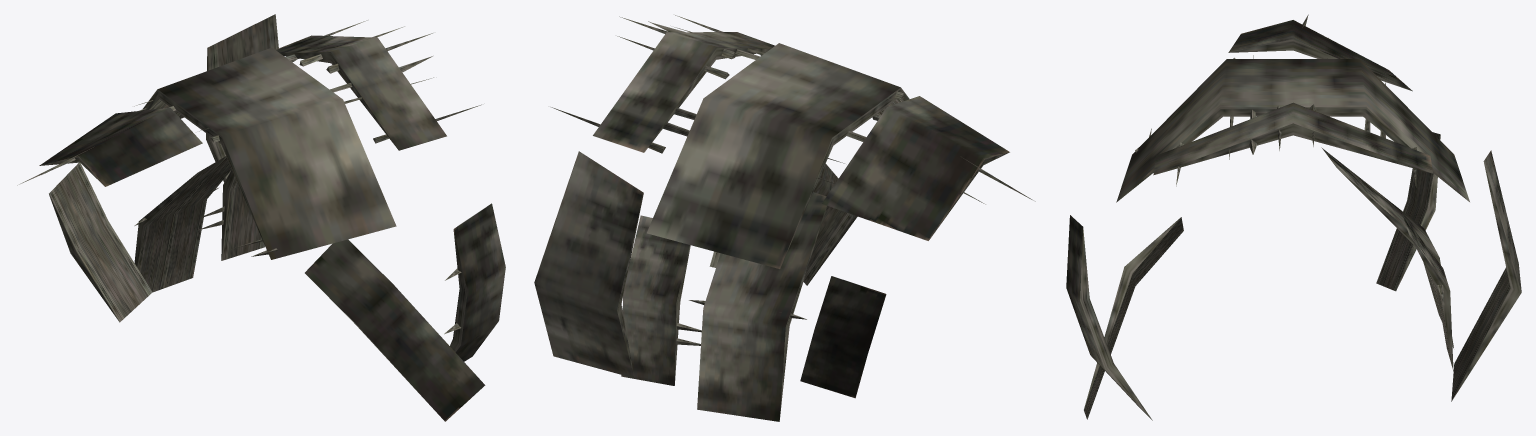
The model's file is thm_tato_lucky_despot_debris_nose_cone_l2.fbx.
3 renders of one model, left to right at view 1: azimuth 30°, elevation 25°; view 2: azimuth 150°, elevation 25°; view 3: azimuth 270°, elevation 25°, orthographic. The views are drawn at different scales.
Visible parts, largest first — view 1: mesh_node; view 2: mesh_node; view 3: mesh_node.
Part boxes in pixels (x1,y1,x2,y2): mesh_node: (17,14,505,421); mesh_node: (534,15,1035,421); mesh_node: (1066,14,1521,420).
Size of the model in its own units: 17.32 by 12.29 by 16.21.
